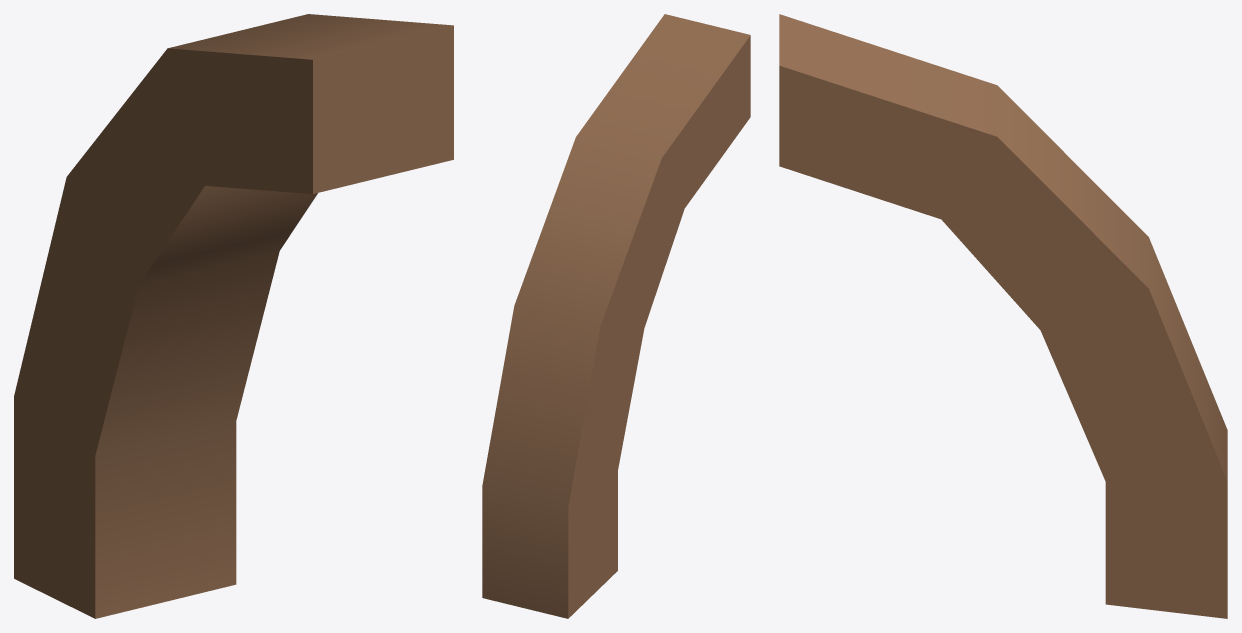
The model's file is Candlestick_Base_A.fbx.
The picture shows the model from 3 angles, left to right: view 1: azimuth 30°, elevation 25°; view 2: azimuth 150°, elevation 25°; view 3: azimuth 270°, elevation 25°; orthographic projection. The views are drawn at different scales.
Parts seen in each view (by area): view 1: Candlestick_Base_A; view 2: Candlestick_Base_A; view 3: Candlestick_Base_A.
Part boxes in pixels (x1,y1,x2,y2): Candlestick_Base_A: (14, 14, 453, 618); Candlestick_Base_A: (482, 14, 750, 618); Candlestick_Base_A: (779, 14, 1227, 618).
Bounding box in the file's own units: 5.41 × 27.07 × 19.88.
